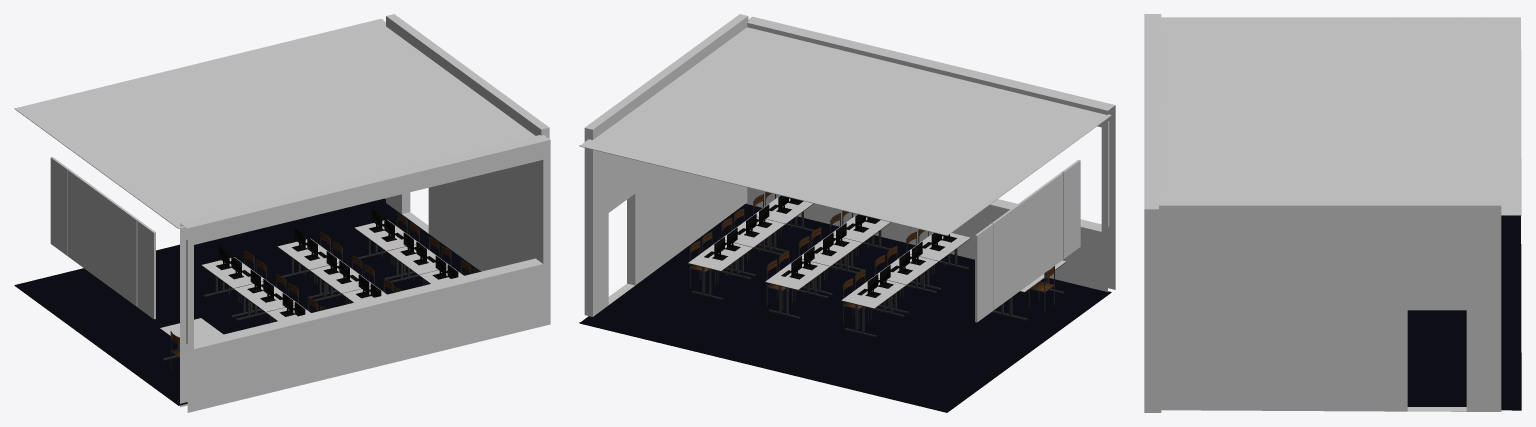
The model's file is salle_classe_haut03.obj.
The picture shows the model from 3 angles, left to right: view 1: azimuth 30°, elevation 25°; view 2: azimuth 150°, elevation 25°; view 3: azimuth 270°, elevation 25°; orthographic projection. The views are drawn at different scales.
Parts seen in each view (by area): view 1: plafond_classe.017; view 2: plafond_classe.017; view 3: plafond_classe.017.
Boxes of the visible parts, left/top/right/bottom form: plafond_classe.017: left=14, top=14, right=550, bottom=412; plafond_classe.017: left=579, top=14, right=1115, bottom=412; plafond_classe.017: left=1144, top=14, right=1521, bottom=412.
Size of the model in its own units: 22.45 by 11.02 by 17.92.
6 materials, 3 textured.
